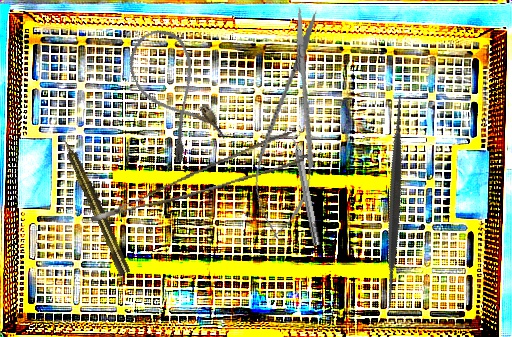Cannula: (118, 20, 229, 166)
Fixation Ring: (283, 124, 326, 248)
Handpiece: (58, 135, 132, 277)
Micro Scissor: (245, 3, 338, 244)
Spatula Surgical: (281, 88, 508, 316)
Tissue Forceps: (82, 130, 307, 222)
